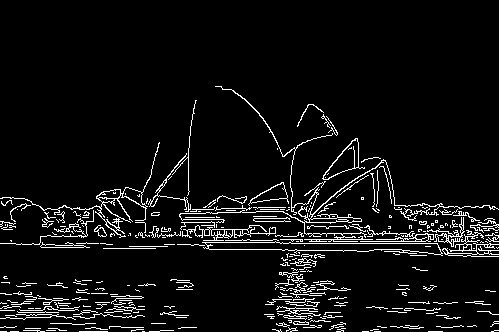opera house: (72, 79, 415, 233)
